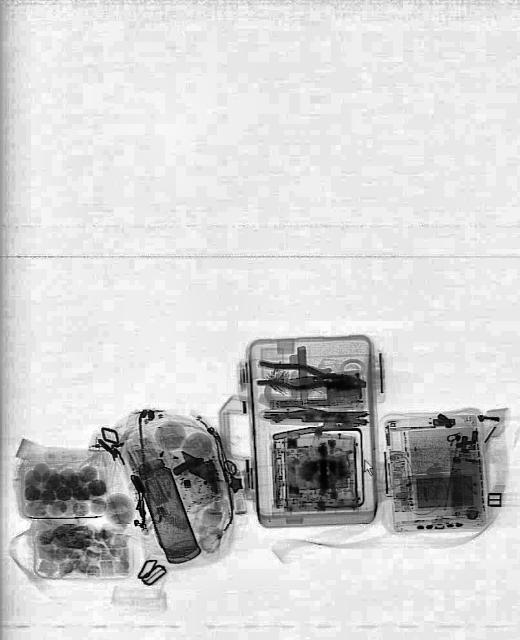Pliers: (258, 358, 366, 396)
